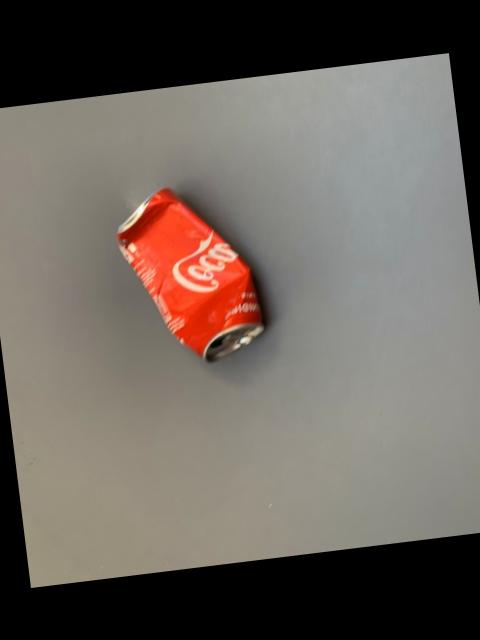metal: (119, 190, 264, 362)
